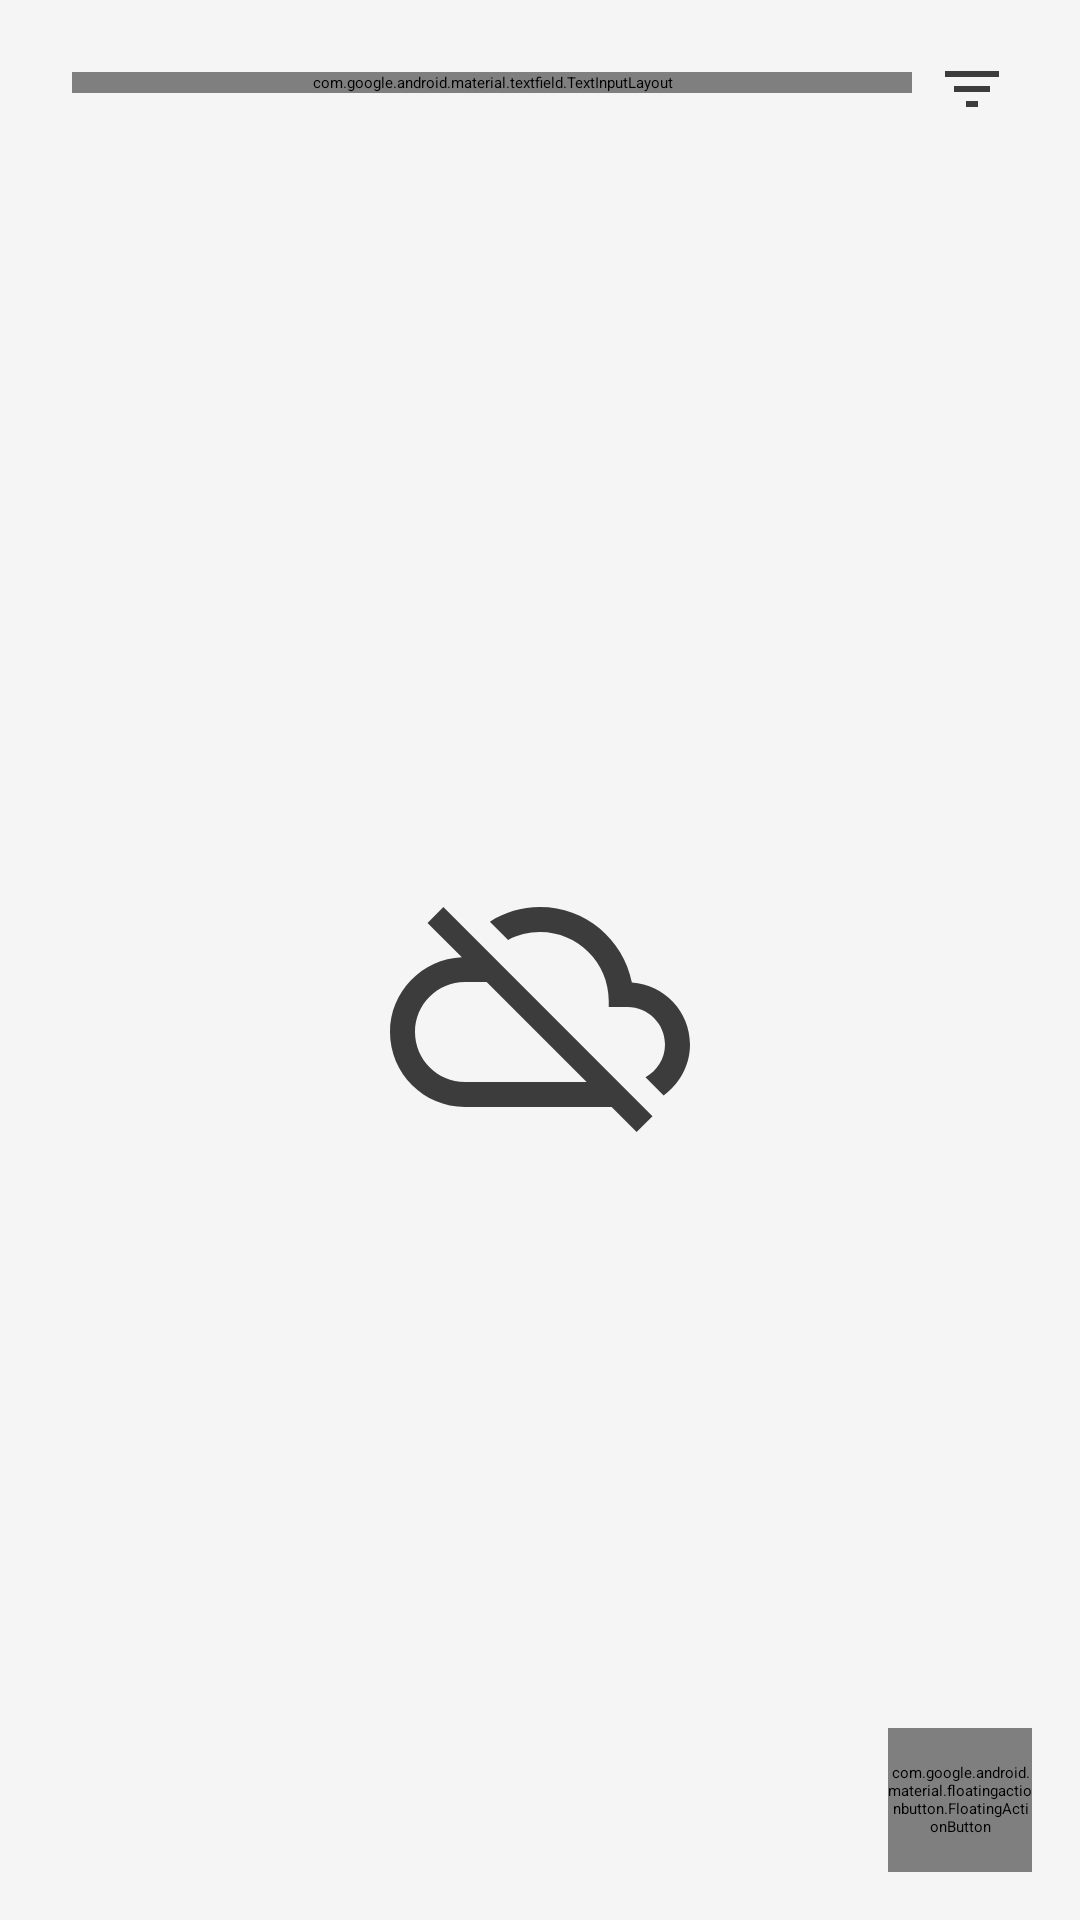

Icons on this 1080*1920 Android screen, each with its box as (x1, y1, x2, y2):
Error al intentar obtener la lista de usuarios desde la nube: (390, 907, 690, 1132)
filter list darkgrey: (945, 71, 999, 107)
